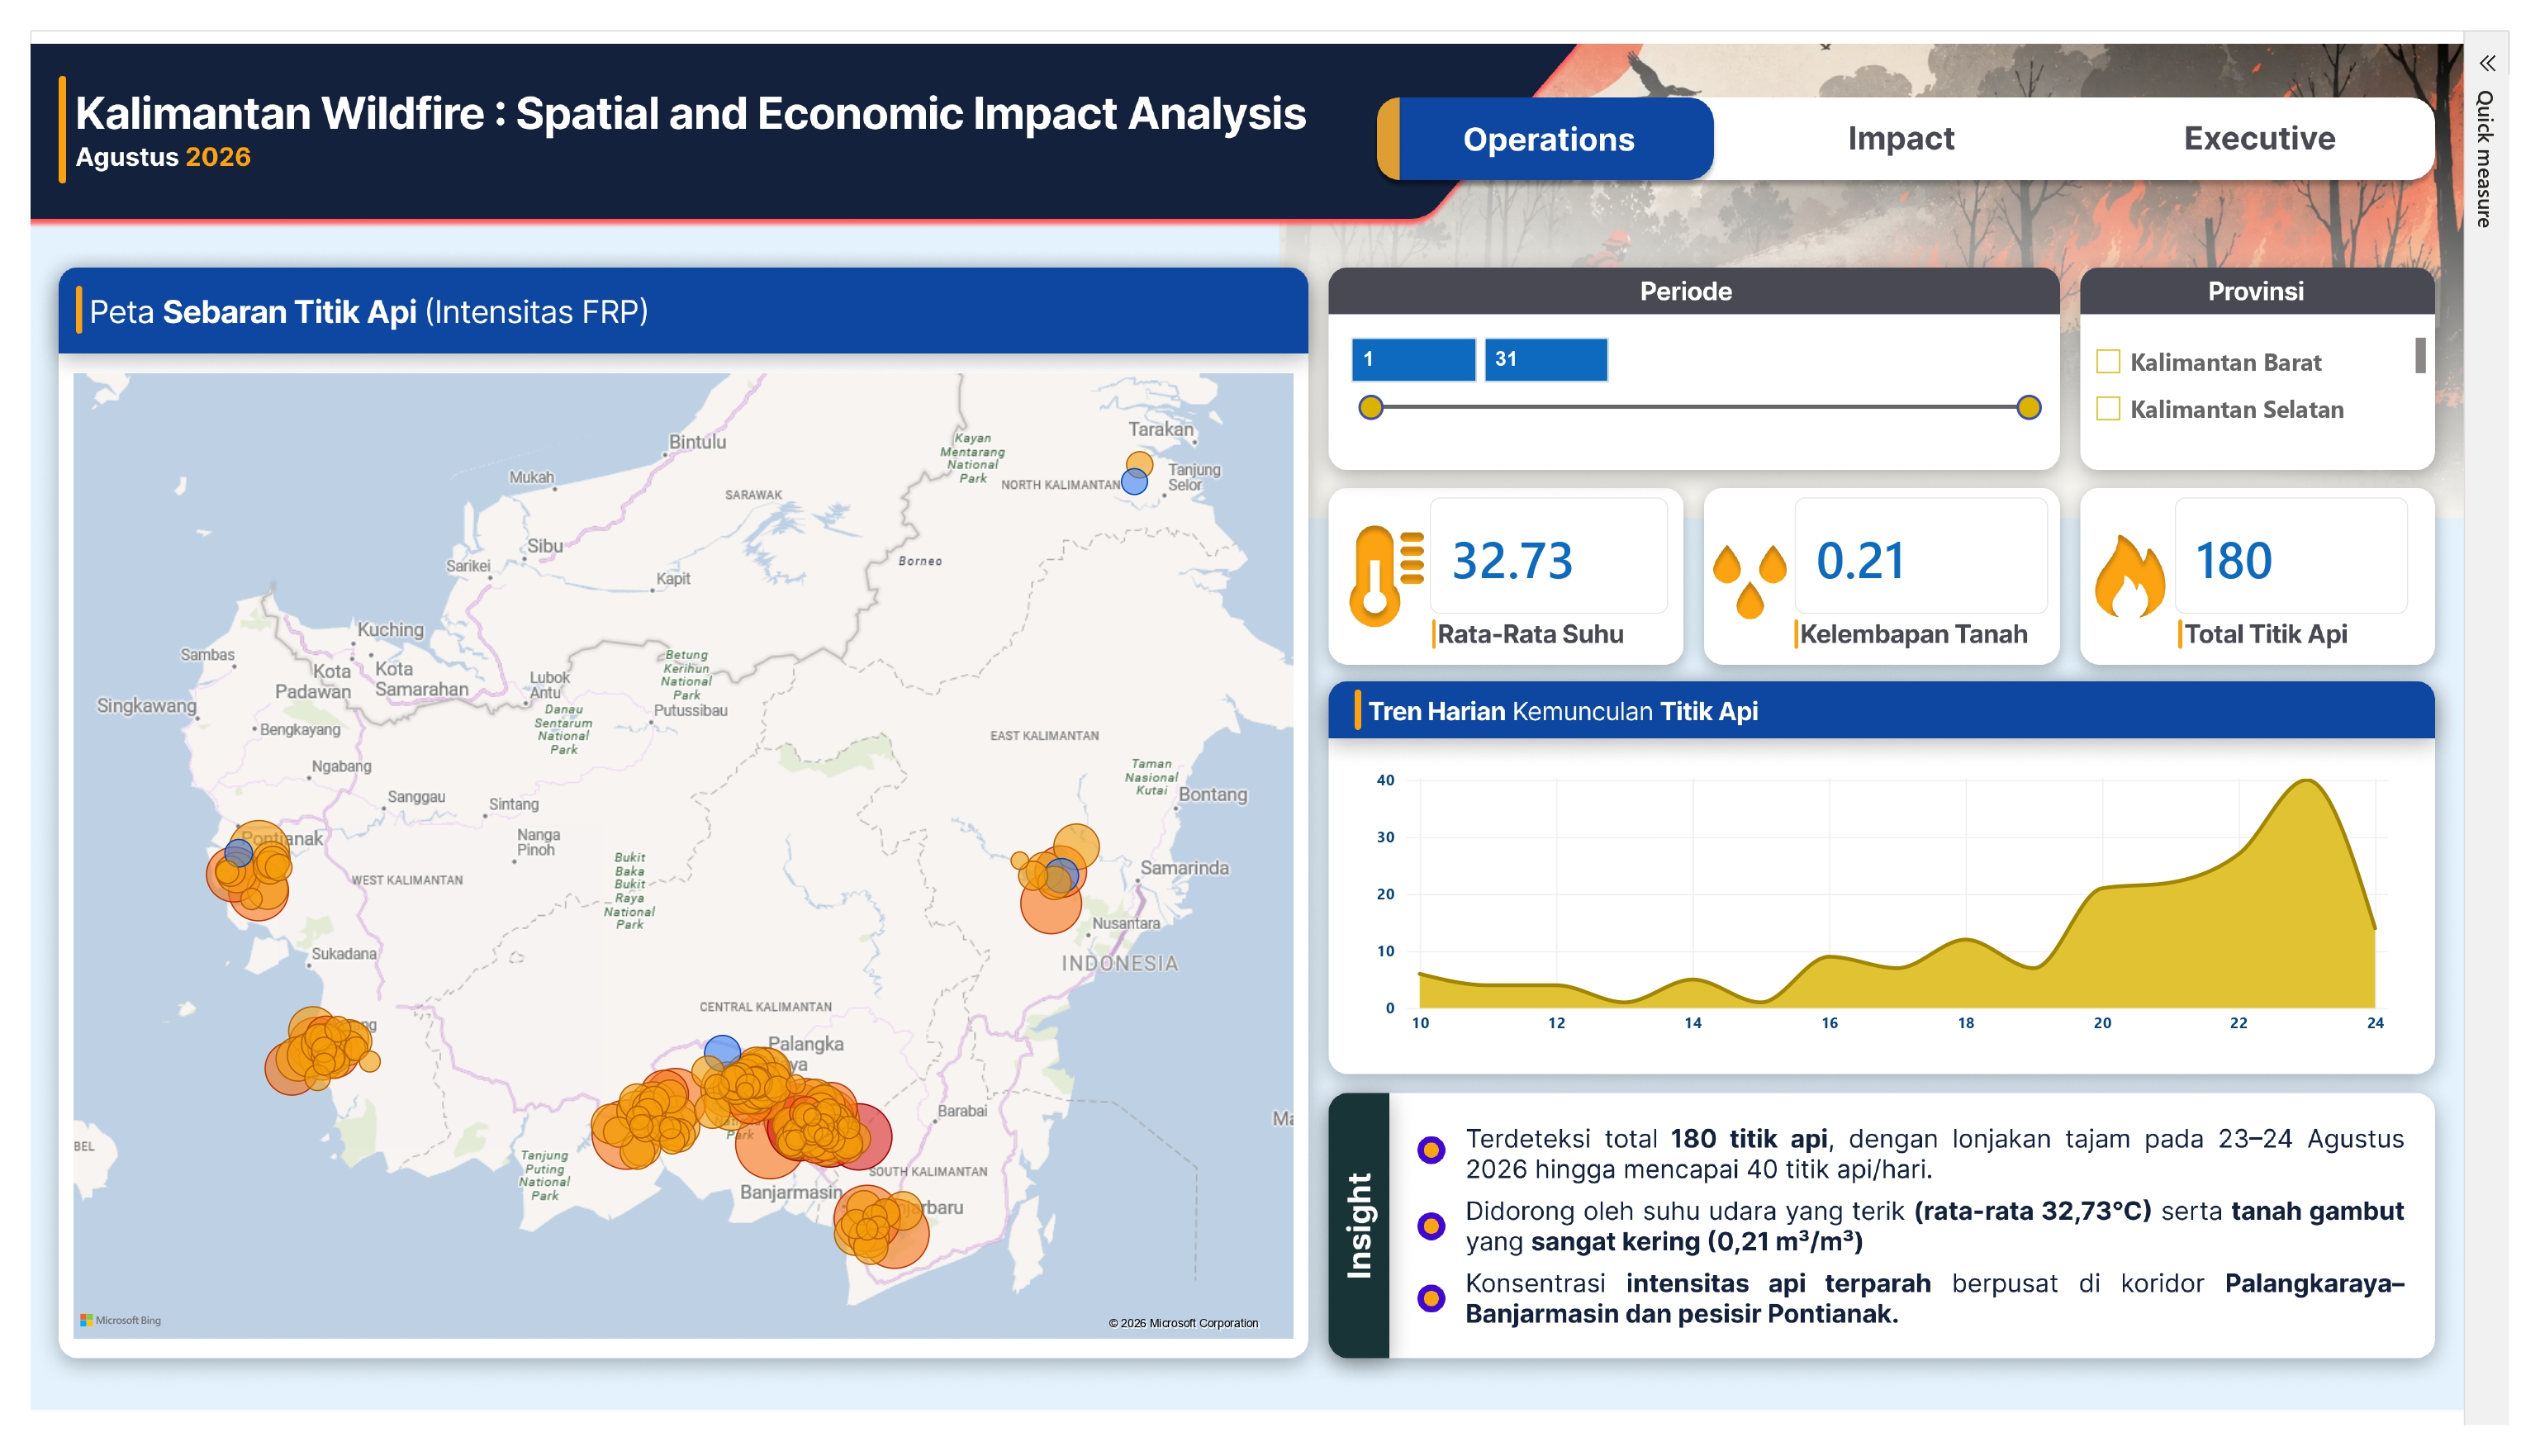

This screenshot's page, from the dashboard's own definition file:
{"tool":"powerbi","page":{"name":"Page 1","canvas":[1920,1080],"ordinal":0},"visuals":[{"type":"textbox","box":[0,654.4,674,182],"z":0},{"type":"slicer","title":"Provinsi","fields":{"Values":["Dim_Provinsi.province"]},"box":[1622,222,268,92],"z":1000},{"type":"map","title":"Peta Sebaran Titik Api (Ukuran: Intensitas FRP)","fields":{"Size":["Sum(kalimantan_hotspots_latest.frp)"],"X":["kalimantan_hotspots_latest.longitude"],"Y":["kalimantan_hotspots_latest.latitude"]},"box":[32,246,966,794],"z":2000},{"type":"cardVisual","title":"Total Titik Api","fields":{"Data":["Count(kalimantan_hotspots_latest.hotspot_id)"]},"box":[1692,358,184,92],"z":3000},{"type":"cardVisual","title":"Rata-rata Suhu (°C)","fields":{"Data":["Avg(kalimantan_weather_latest.temperature_c)"]},"box":[1104,358,188,92],"z":4000},{"type":"cardVisual","title":"Kelembaban Tanah","fields":{"Data":["Avg(kalimantan_weather_latest.soil_moisture_m3_m3)"]},"box":[1392,358,200,92],"z":5000},{"type":"stackedAreaChart","title":"Tren Harian Kemunculan Titik Api","fields":{"Category":["Dim_Tanggal.Date.Variation.Date Hierarchy.Day"],"Y":["CountNonNull(kalimantan_hotspots_latest.hotspot_id)"]},"box":[1046,558,830,244],"z":6000},{"type":"slicer","title":"Periode","fields":{"Values":["Dim_Tanggal.Date.Variation.Date Hierarchy.Day"]},"box":[1034,222,558.8,91.2],"z":7000}]}

Visuals, with their boxes on the page's 1920x1080 design canvas (x1, y1, x2, y2). These are canvas units, not pixel positions in the 2540x1456 screenshot, which may show the page scaled, cropped or inside an application window:
textbox: 0 654 674 836
"Provinsi" slicer: 1622 222 1890 314
"Peta Sebaran Titik Api (Ukuran: Intensitas FRP)" map: 32 246 998 1040
"Total Titik Api" cardVisual: 1692 358 1876 450
"Rata-rata Suhu (°C)" cardVisual: 1104 358 1292 450
"Kelembaban Tanah" cardVisual: 1392 358 1592 450
"Tren Harian Kemunculan Titik Api" stackedAreaChart: 1046 558 1876 802
"Periode" slicer: 1034 222 1593 313
